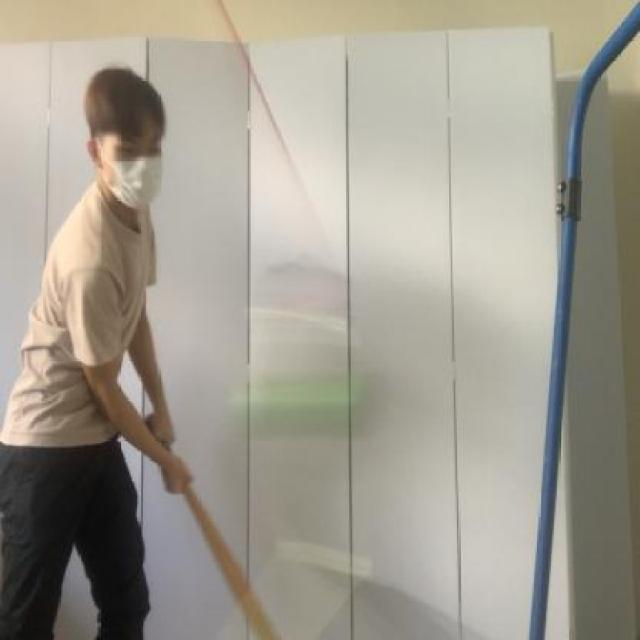baseball: (219, 338, 407, 442)
